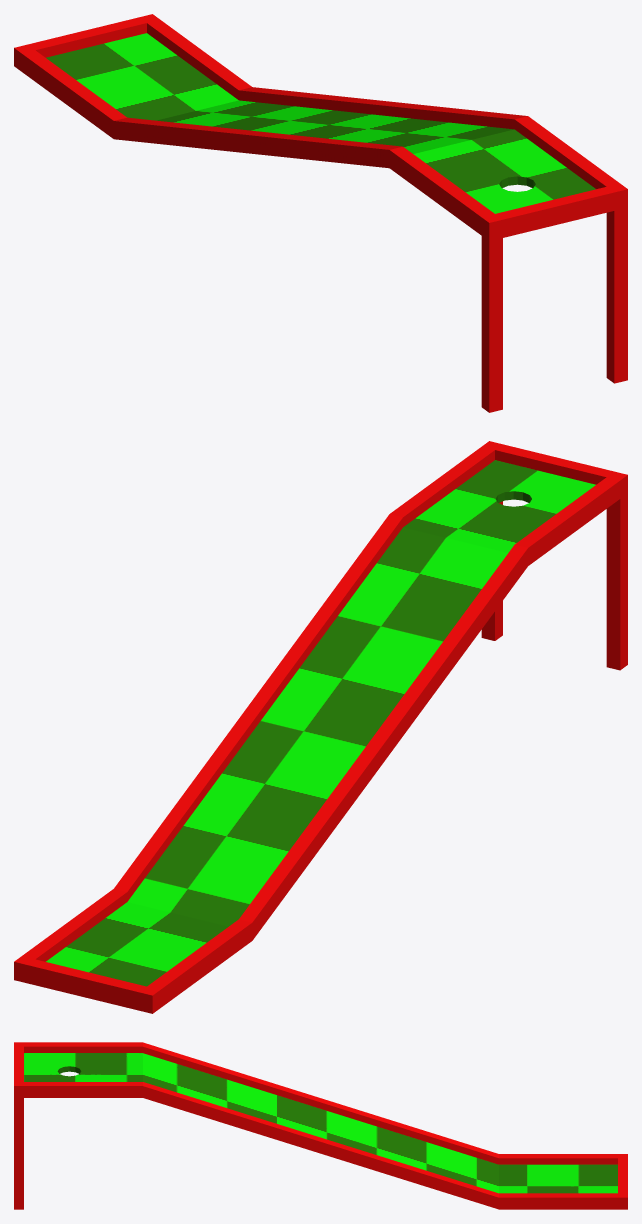
Rendered from Track2.fbx.
3 views of the same model, one above another, from view 1: azimuth 30°, elevation 25°; view 2: azimuth 150°, elevation 25°; view 3: azimuth 270°, elevation 25° (orthographic). The views are drawn at different scales.
Visible parts, largest first — view 1: BahnF5_Boundary, BahnF5_Track; view 2: BahnF5_Track, BahnF5_Boundary; view 3: BahnF5_Boundary, BahnF5_Track.
Boxes of the visible parts, x1,y1,x2,y2 form: BahnF5_Boundary: (14, 14, 627, 412); BahnF5_Track: (46, 33, 595, 213); BahnF5_Track: (46, 460, 595, 986); BahnF5_Boundary: (14, 441, 627, 1013); BahnF5_Boundary: (14, 1042, 627, 1209); BahnF5_Track: (24, 1053, 617, 1193).
Bounding box in the file's own units: 87 × 115 × 517.
